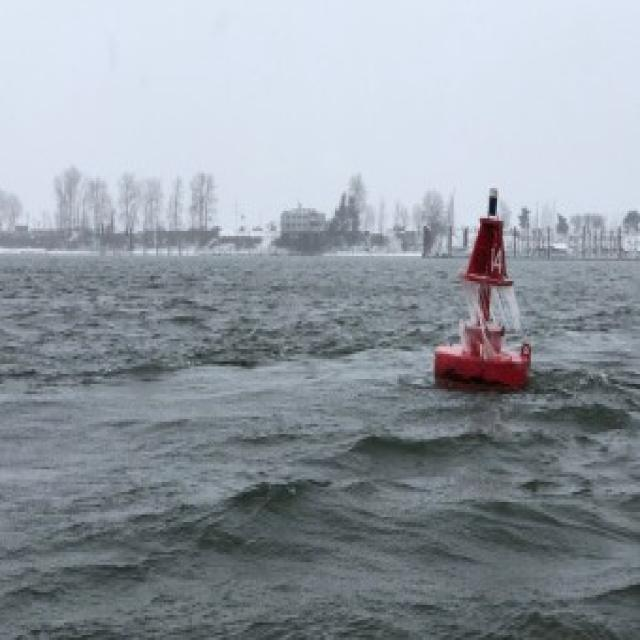2.1 lateral mark -P-: (432, 177, 545, 398)
